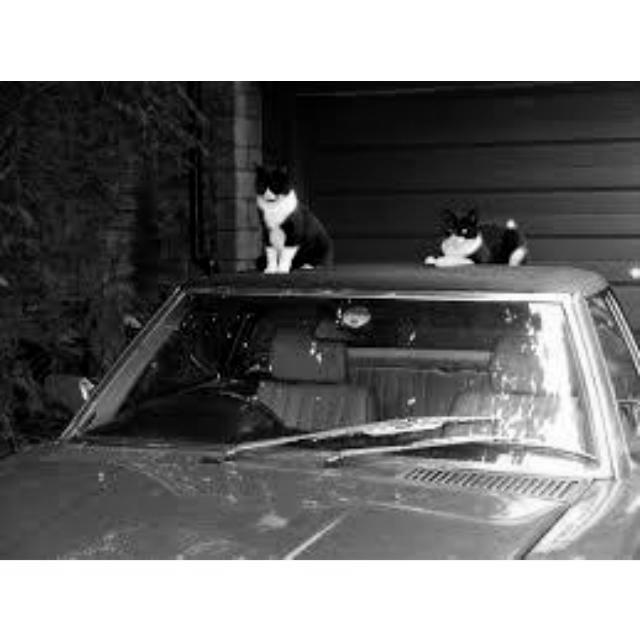Front-windscreen-damage: (92, 273, 610, 485)
